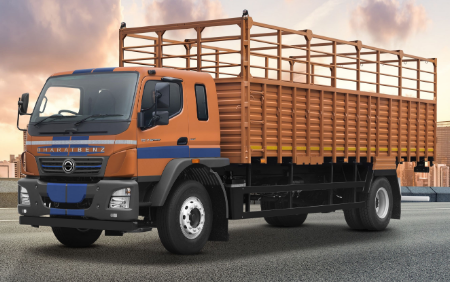truck: (11, 10, 442, 259)
